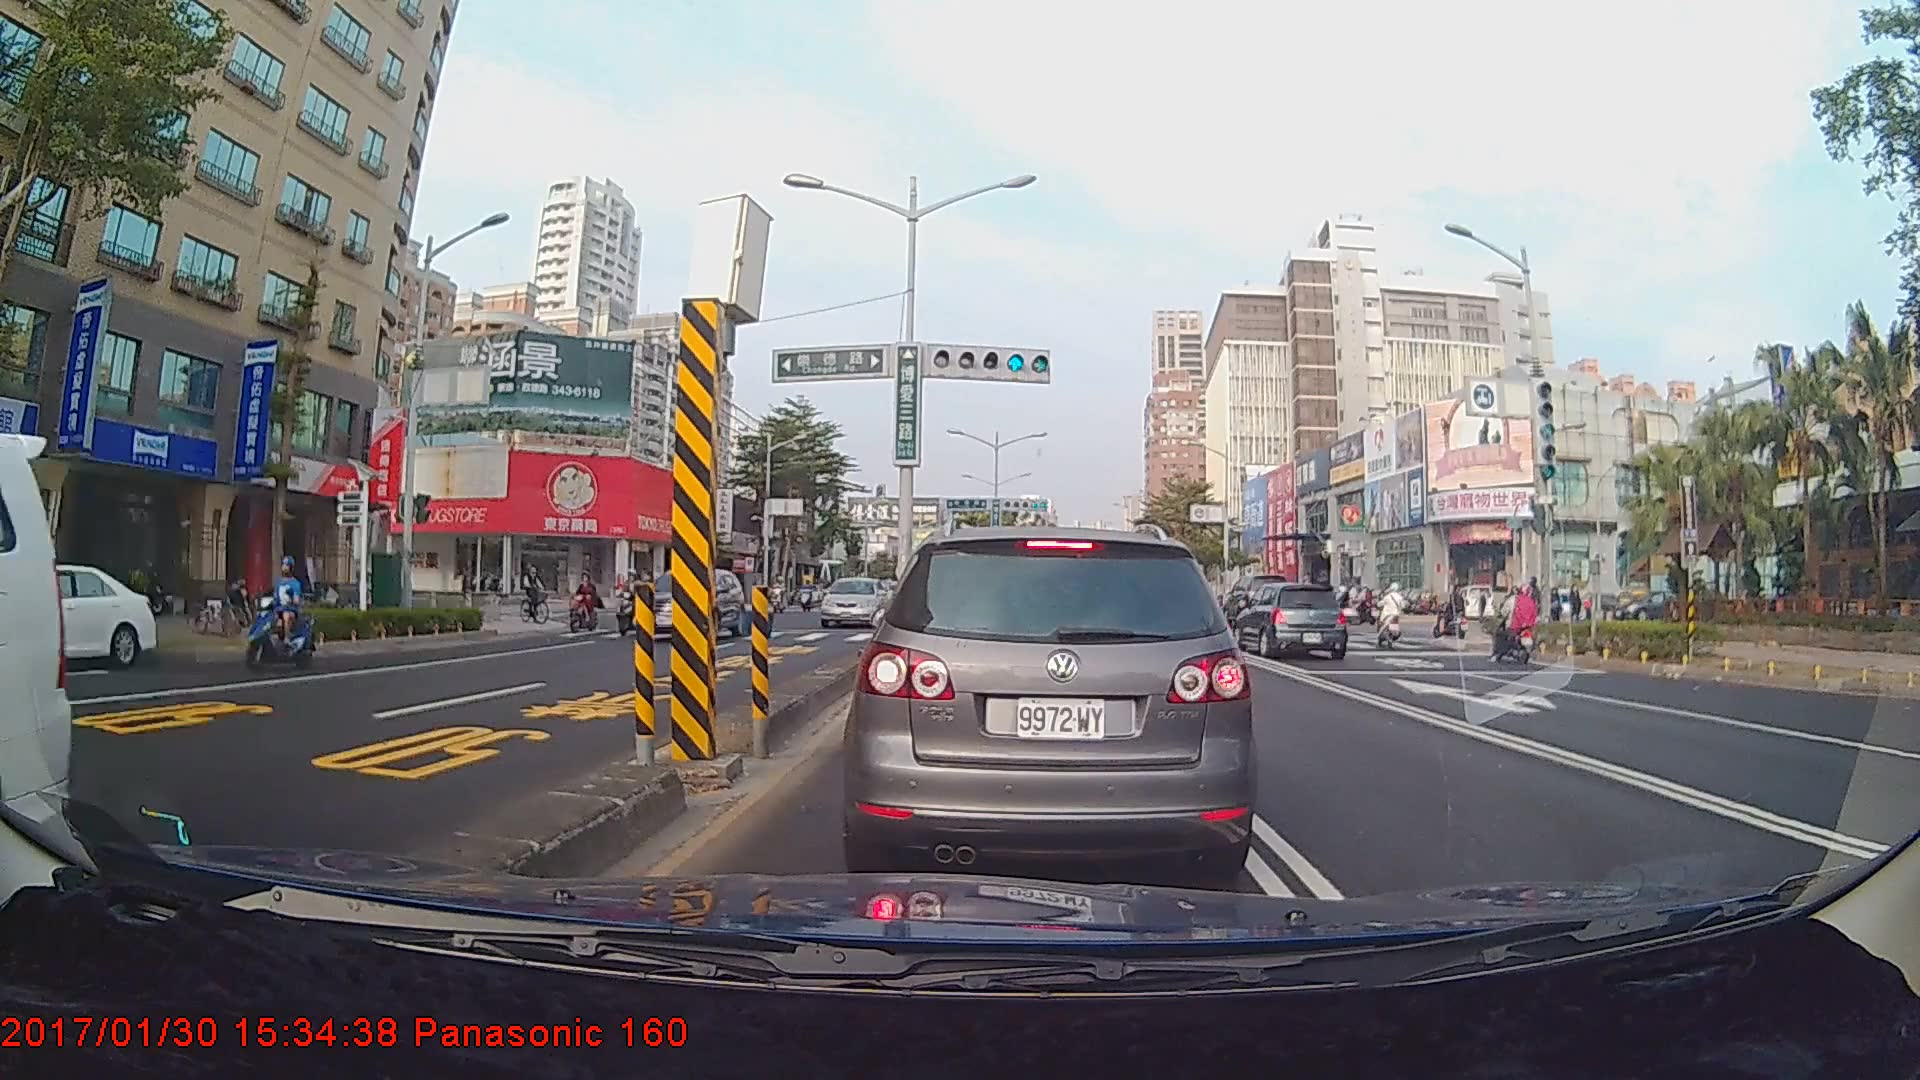rider: (240, 561, 316, 679), (1485, 582, 1548, 668), (562, 567, 611, 640), (518, 559, 561, 629), (1436, 582, 1473, 646), (1376, 584, 1409, 649)
vehicle: (856, 522, 1244, 877), (0, 561, 157, 671), (1228, 580, 1347, 661), (631, 567, 748, 642), (819, 574, 889, 626)
